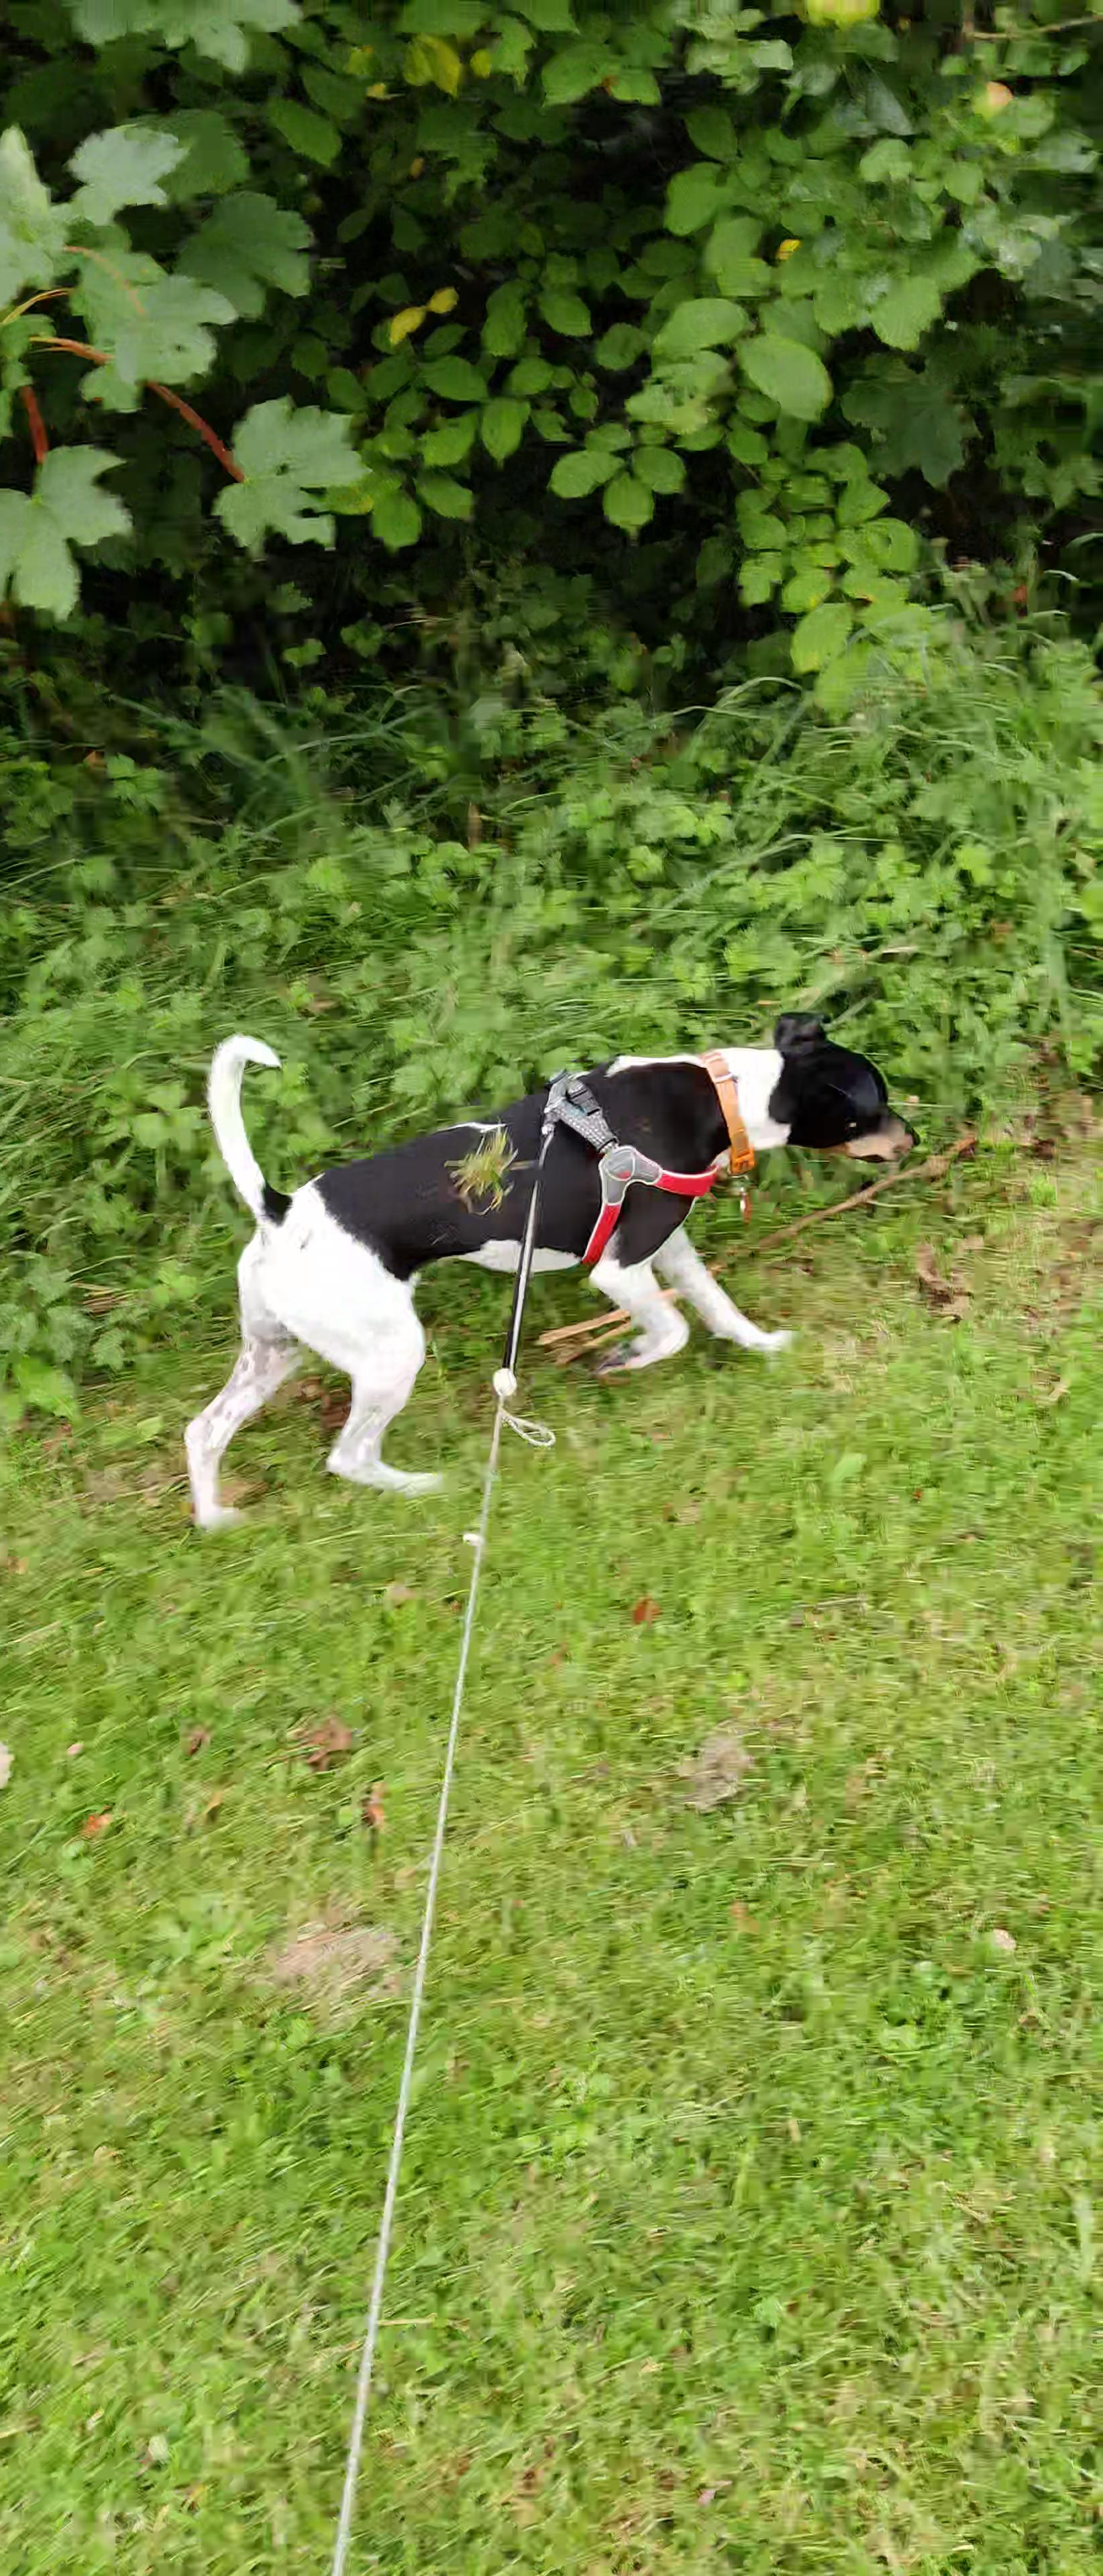Dog: (174, 981, 929, 1539)
